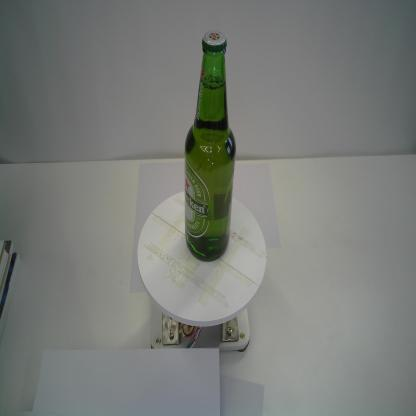Alcohol: (182, 27, 239, 265)
